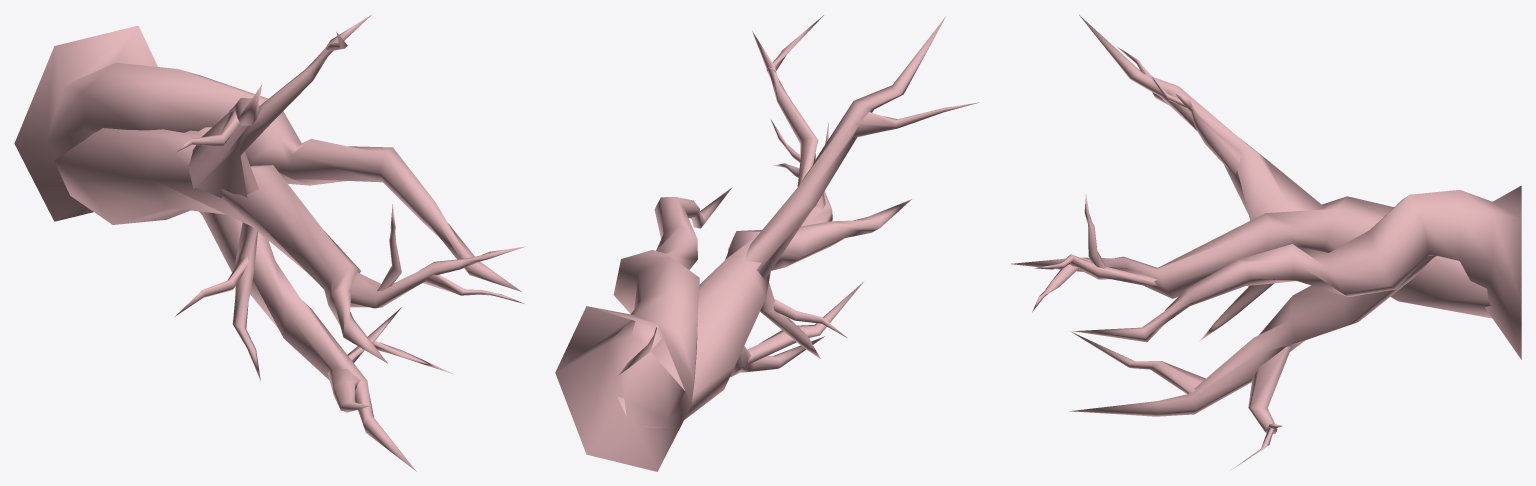
The picture shows the model from 3 angles, left to right: view 1: azimuth 30°, elevation 25°; view 2: azimuth 150°, elevation 25°; view 3: azimuth 270°, elevation 25°; orthographic projection. The views are drawn at different scales.
Visible parts, largest first — view 1: Object04; view 2: Object04; view 3: Object04.
Boxes of the visible parts, box(x1,y1,x2,y2) form: Object04: box(14, 15, 524, 471); Object04: box(555, 15, 978, 471); Object04: box(1011, 15, 1521, 469).
Size of the model in its own units: 35616 by 41781 by 56102.
